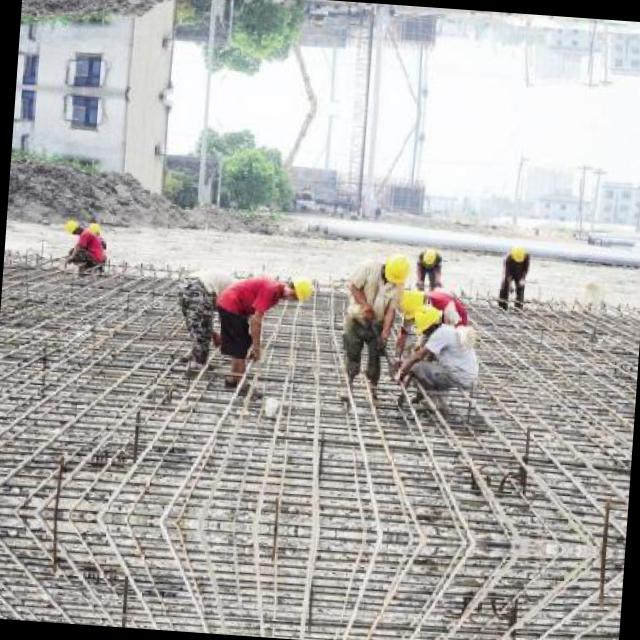helmet: (397, 284, 431, 323), (411, 305, 447, 338), (380, 254, 412, 288), (278, 274, 314, 304), (59, 214, 85, 237), (418, 244, 440, 268), (507, 242, 528, 262), (83, 218, 100, 242)
